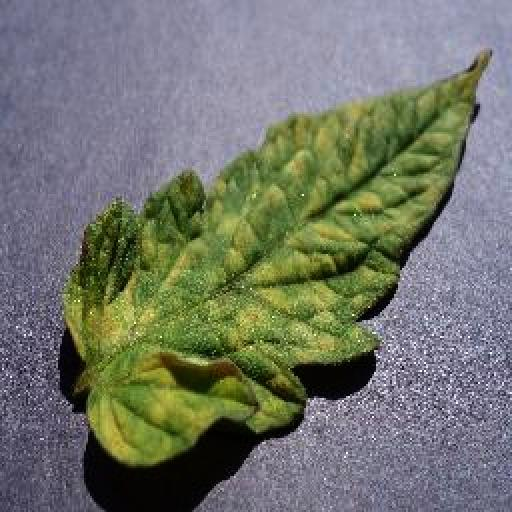disease_tomato: (60, 48, 494, 464)
